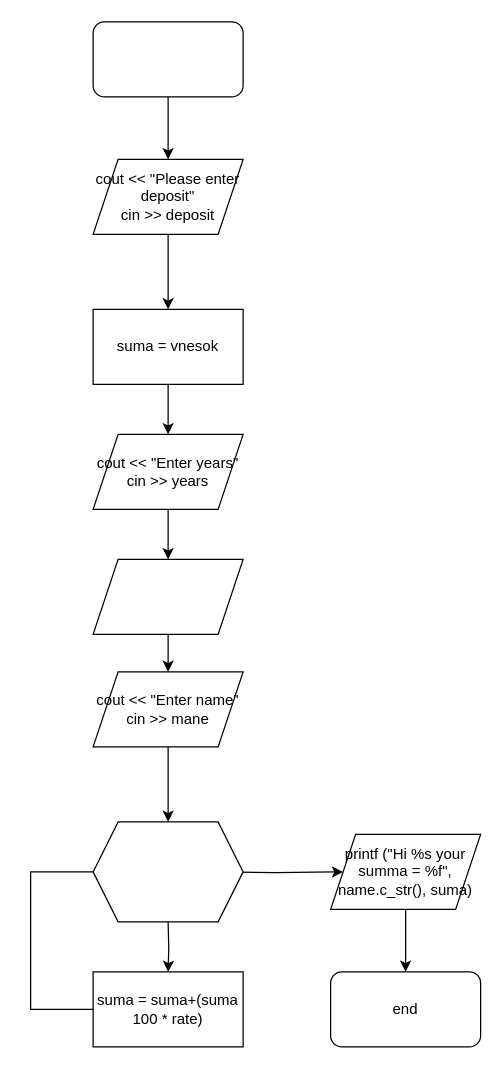
This 503x1069 diagram has some shape labels left out. Each missing label, with the centre of its shape:
cout << "Enter rate" cin >> rate: (x=167, y=596)
int i = 0 ; i < time; i++: (x=167, y=871)
Start: (x=167, y=59)
